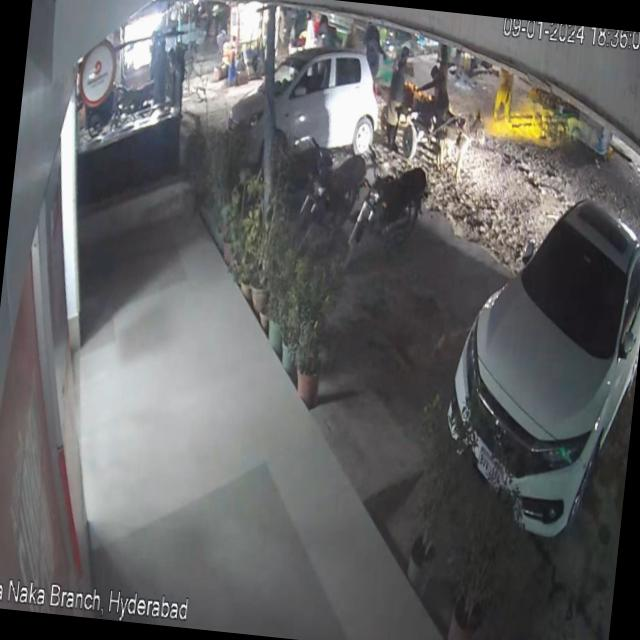Car: (433, 165, 640, 564), (222, 38, 402, 187)
Motorcycle: (345, 139, 437, 286), (294, 144, 367, 260)
